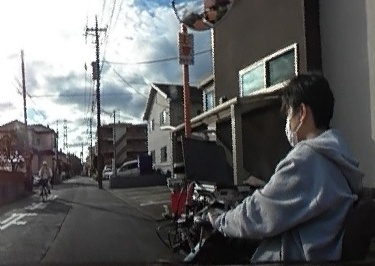person: (203, 74, 354, 266), (39, 161, 49, 194)
